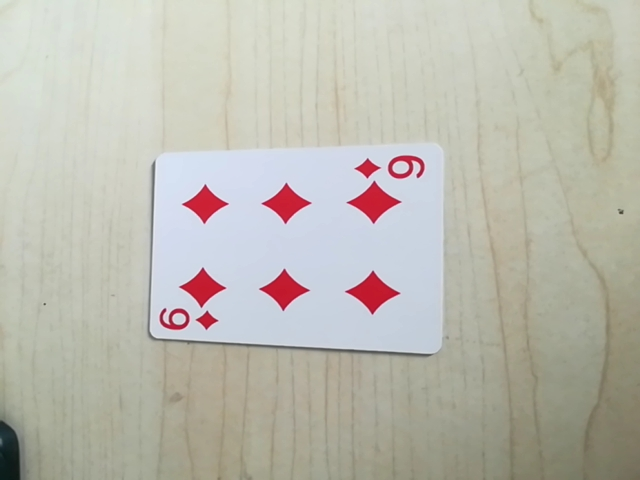fk 6: (351, 149, 429, 186), (156, 305, 219, 337)
